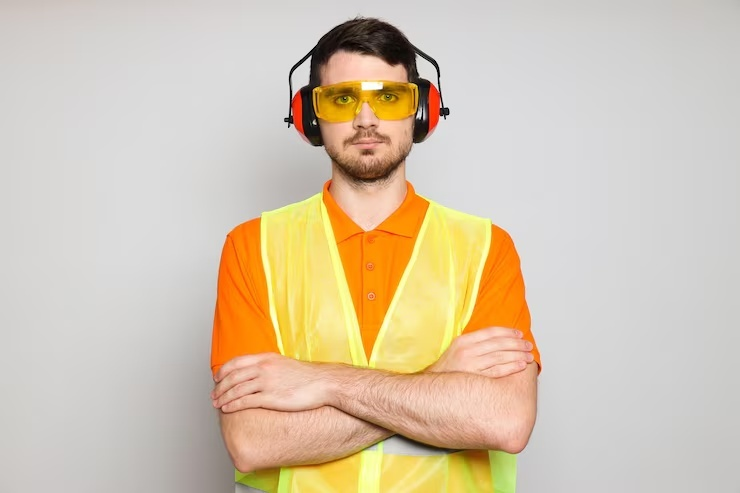safety_goggles: (302, 70, 435, 131)
